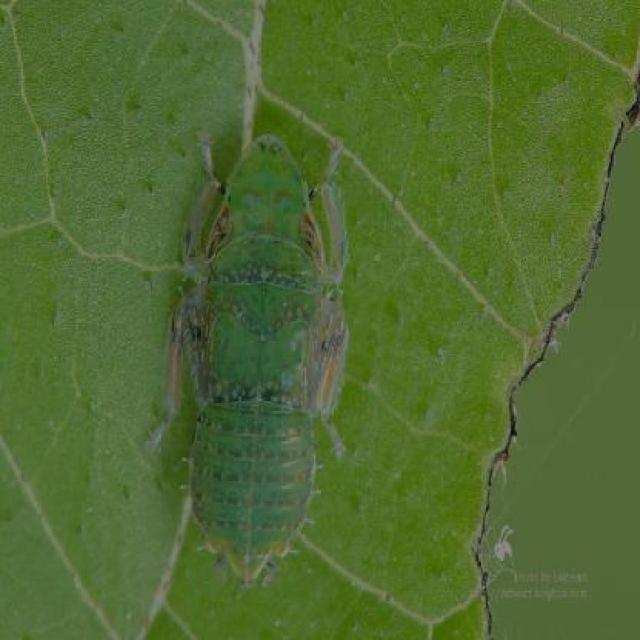green-leafhopper: (164, 131, 350, 577)
